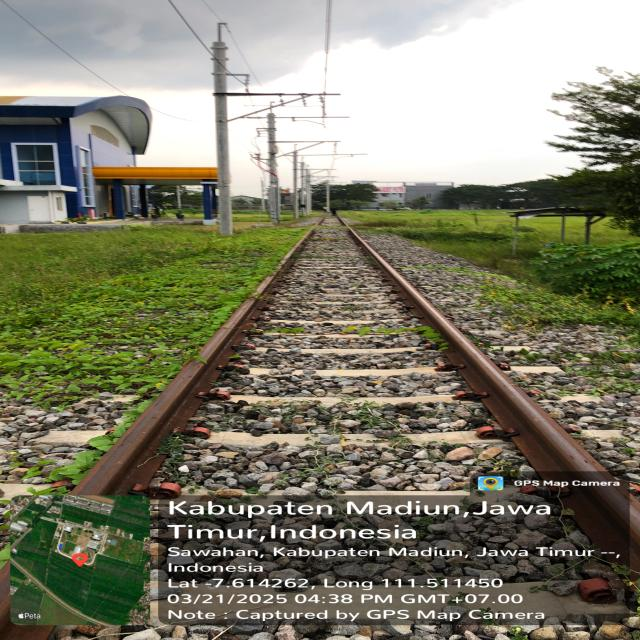rail-detection: (348, 229, 640, 572), (71, 230, 314, 495)
